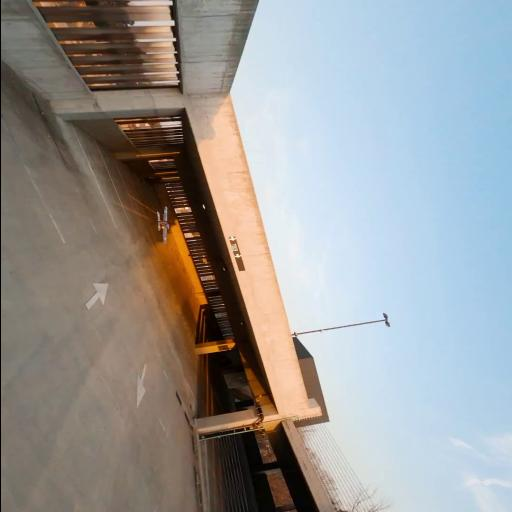uav: (153, 206, 171, 245)
